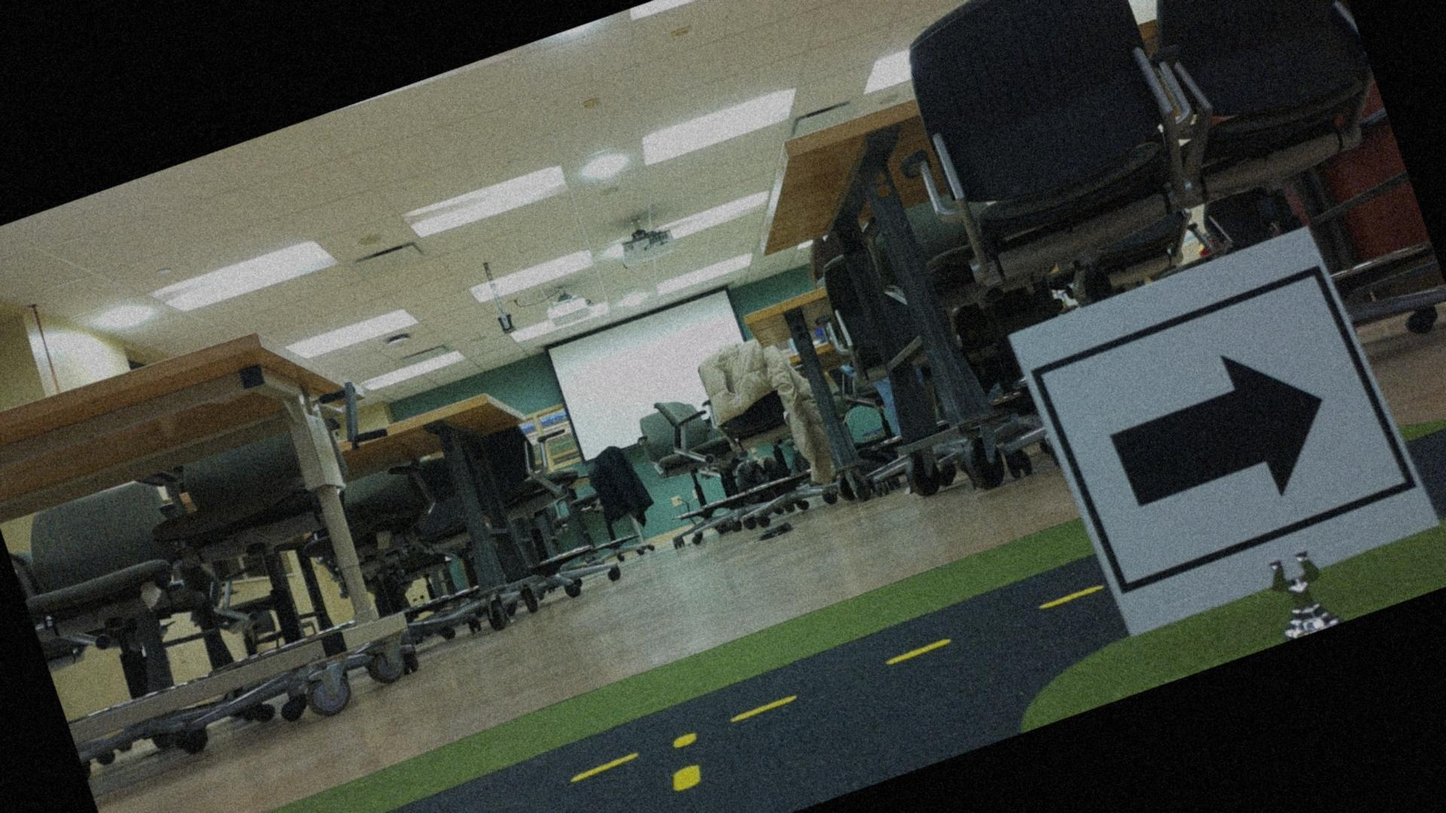turnleft: (1014, 229, 1419, 635)
yellowline: (224, 584, 1097, 812), (645, 760, 725, 812)
